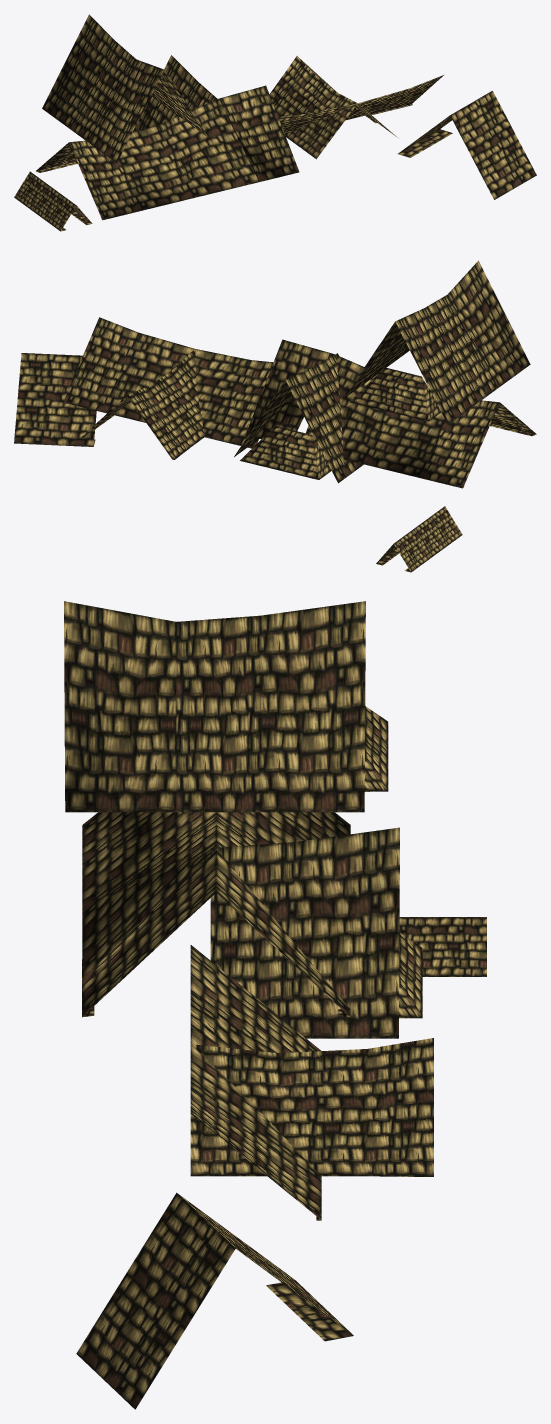
The model's file is LAKETOWN_EXTERIOR_PS_LT_ROOFS243.fbx.
The picture shows the model from 3 angles, top to bottom: view 1: azimuth 30°, elevation 25°; view 2: azimuth 150°, elevation 25°; view 3: azimuth 270°, elevation 25°; orthographic projection. The views are drawn at different scales.
Visible parts, largest first — view 1: LAKETOWN_EXTERIOR_PS_LT_ROOFS243; view 2: LAKETOWN_EXTERIOR_PS_LT_ROOFS243; view 3: LAKETOWN_EXTERIOR_PS_LT_ROOFS243.
Part boxes in pixels (left/top/right/bottom): LAKETOWN_EXTERIOR_PS_LT_ROOFS243: left=14, top=14, right=536, bottom=231; LAKETOWN_EXTERIOR_PS_LT_ROOFS243: left=14, top=260, right=536, bottom=572; LAKETOWN_EXTERIOR_PS_LT_ROOFS243: left=64, top=601, right=486, bottom=1409.
Bounding box in the file's own units: 280188 × 127951 × 114652.
Materials: 1 (1 with a texture image).
